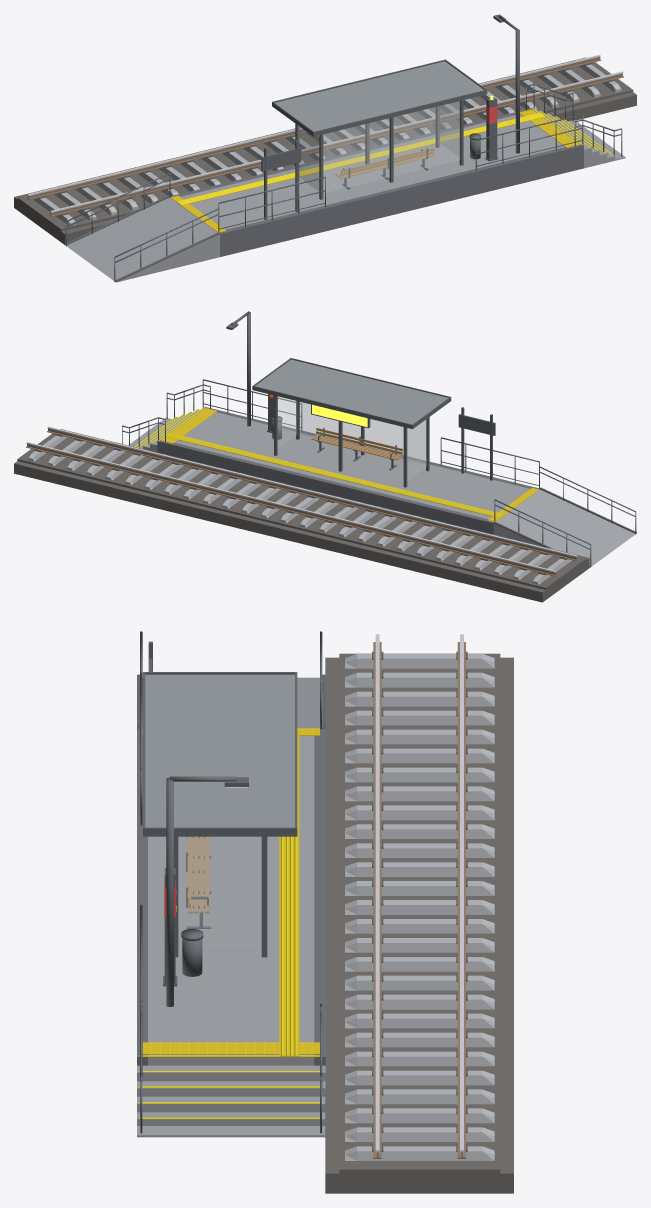
Rendered from station_pavilion_mockup.glb.
The picture shows the model from 3 angles, top to bottom: view 1: azimuth 30°, elevation 25°; view 2: azimuth 150°, elevation 25°; view 3: azimuth 270°, elevation 25°; orthographic projection. The views are drawn at different scales.
Visible parts, largest first — view 1: Platform_Base, Platform_Curb, Track_Ballast, Pavilion_Glazing, Ramp_Slope, Track_Sleepers, Pavilion_Roof, Track_Rails_P65_Body, Track_Rails_P65_Head, Pavilion_Roof_Fascia, Tactile_Ribs, Platform_Rear_Guardrails (+13 smaller); view 2: Track_Ballast, Platform_Base, Track_Sleepers, Pavilion_Roof, Platform_Curb, Ramp_Slope, Track_Rails_P65_Body, Pavilion_Glazing, Track_Rails_P65_Head, Tactile_Ribs, Pavilion_Roof_Fascia, Tactile_Safety_Base (+13 smaller); view 3: Track_Sleepers, Track_Ballast, Platform_Base, Pavilion_Roof, Stairs_Steps, Pavilion_Glazing, Platform_Curb, Track_Rails_P65_Body, Track_Rails_P65_Head, Tactile_Safety_Base, Tactile_Ribs, Pavilion_Roof_Fascia (+9 smaller).
Part boxes in pixels (x1=…): Platform_Base: x1=180, y1=110, x2=578, y2=229; Platform_Curb: x1=170, y1=108, x2=583, y2=256; Track_Ballast: x1=14, y1=57, x2=636, y2=244; Pavilion_Glazing: x1=298, y1=101, x2=459, y2=192; Ramp_Slope: x1=66, y1=197, x2=219, y2=282; Track_Sleepers: x1=30, y1=59, x2=621, y2=225; Pavilion_Roof: x1=275, y1=61, x2=483, y2=131; Track_Rails_P65_Body: x1=27, y1=57, x2=623, y2=216; Track_Rails_P65_Head: x1=27, y1=54, x2=623, y2=212; Pavilion_Roof_Fascia: x1=272, y1=59, x2=487, y2=136; Tactile_Ribs: x1=177, y1=113, x2=544, y2=204; Platform_Rear_Guardrails: x1=218, y1=114, x2=583, y2=231; Track_Ballast: x1=14, y1=429, x2=589, y2=602; Platform_Base: x1=162, y1=409, x2=529, y2=519; Track_Sleepers: x1=27, y1=430, x2=574, y2=584; Pavilion_Roof: x1=255, y1=359, x2=447, y2=424; Platform_Curb: x1=157, y1=406, x2=538, y2=534; Ramp_Slope: x1=493, y1=489, x2=635, y2=566; Track_Rails_P65_Body: x1=26, y1=428, x2=577, y2=576; Pavilion_Glazing: x1=278, y1=396, x2=426, y2=479; Track_Rails_P65_Head: x1=26, y1=426, x2=577, y2=572; Tactile_Ribs: x1=164, y1=432, x2=504, y2=517; Pavilion_Roof_Fascia: x1=252, y1=358, x2=451, y2=429; Tactile_Safety_Base: x1=164, y1=432, x2=504, y2=517; Track_Sleepers: x1=345, y1=654, x2=494, y2=1160; Track_Ballast: x1=325, y1=653, x2=513, y2=1193; Platform_Base: x1=148, y1=736, x2=314, y2=1065; Pavilion_Roof: x1=145, y1=674, x2=294, y2=827; Stairs_Steps: x1=137, y1=1065, x2=325, y2=1137; Pavilion_Glazing: x1=179, y1=837, x2=260, y2=945; Platform_Curb: x1=137, y1=729, x2=325, y2=1065; Track_Rails_P65_Body: x1=373, y1=642, x2=465, y2=1158; Track_Rails_P65_Head: x1=375, y1=634, x2=463, y2=1152; Tactile_Safety_Base: x1=279, y1=728, x2=299, y2=1056; Tactile_Ribs: x1=281, y1=836, x2=297, y2=1056; Pavilion_Roof_Fascia: x1=143, y1=672, x2=297, y2=836.
Bounding box in the file's own units: 1.1 × 0.2697 × 0.34.
